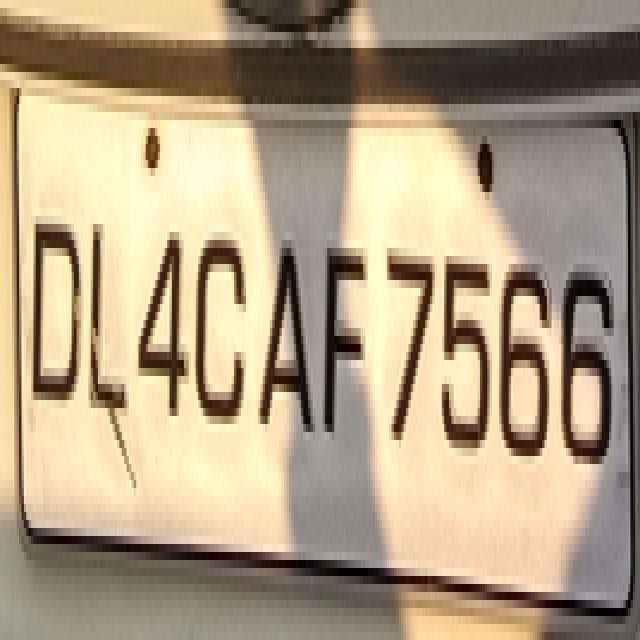4: (133, 226, 191, 424)
5: (441, 238, 493, 465)
6: (558, 250, 620, 480), (498, 247, 554, 472)
7: (384, 236, 437, 458)
A: (258, 219, 314, 436)
C: (193, 226, 250, 440)
D: (24, 211, 84, 420)
F: (317, 217, 373, 445)
L: (82, 202, 130, 440)
